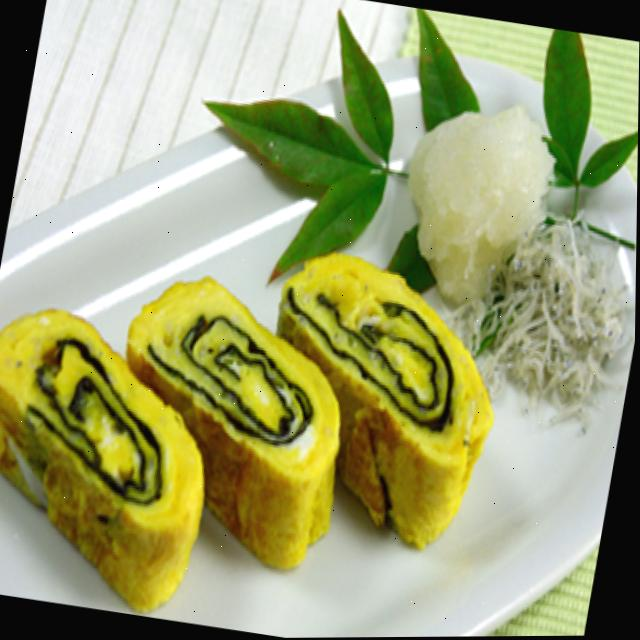鸡蛋料理: (0, 181, 537, 640)
